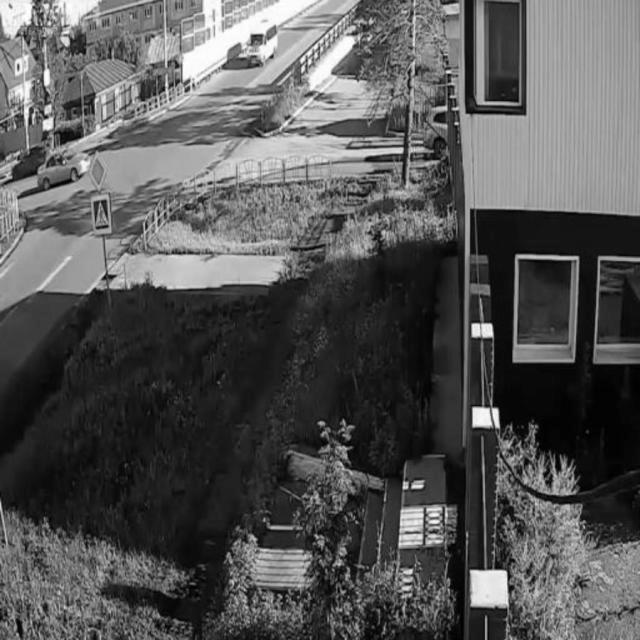vehicle: (246, 19, 283, 70), (37, 152, 92, 186)
